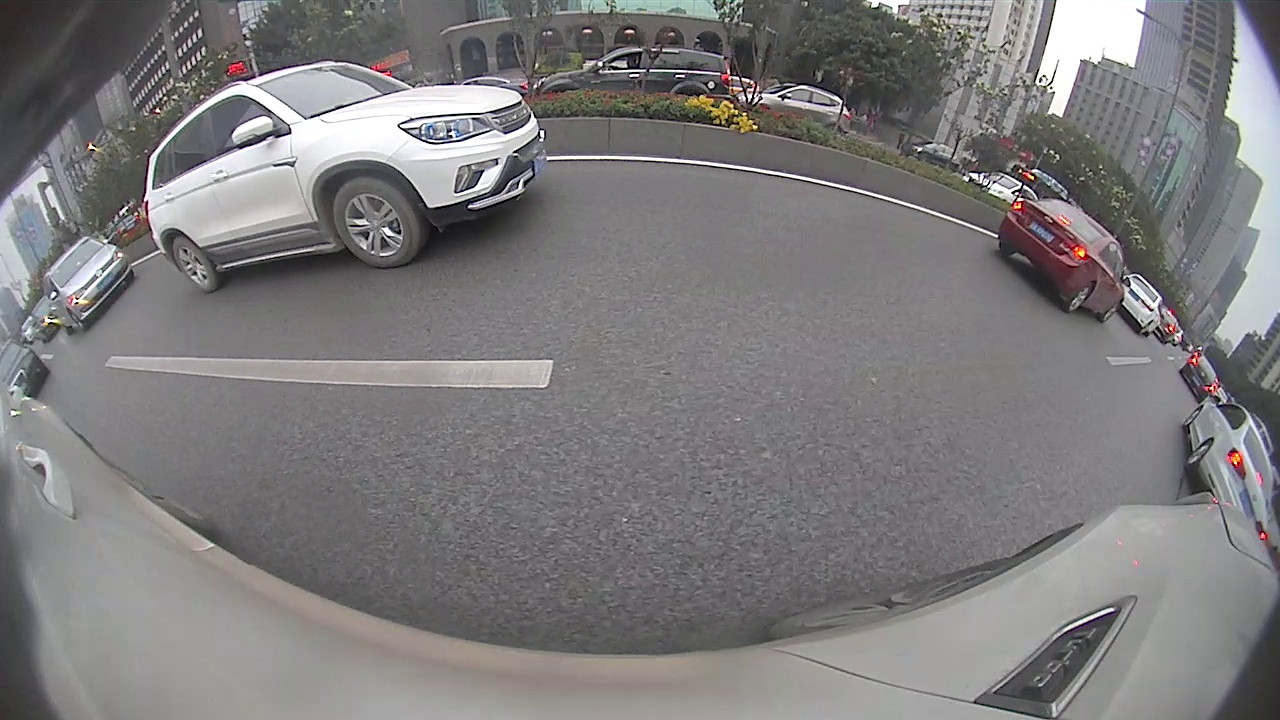car: (140, 60, 548, 293), (998, 198, 1131, 324), (1179, 394, 1274, 534), (528, 44, 733, 101), (41, 234, 134, 334), (1, 338, 52, 404), (1121, 271, 1164, 338), (1178, 353, 1219, 403)
front: (331, 179, 417, 268)
rear: (170, 234, 216, 293), (1063, 282, 1096, 316)
